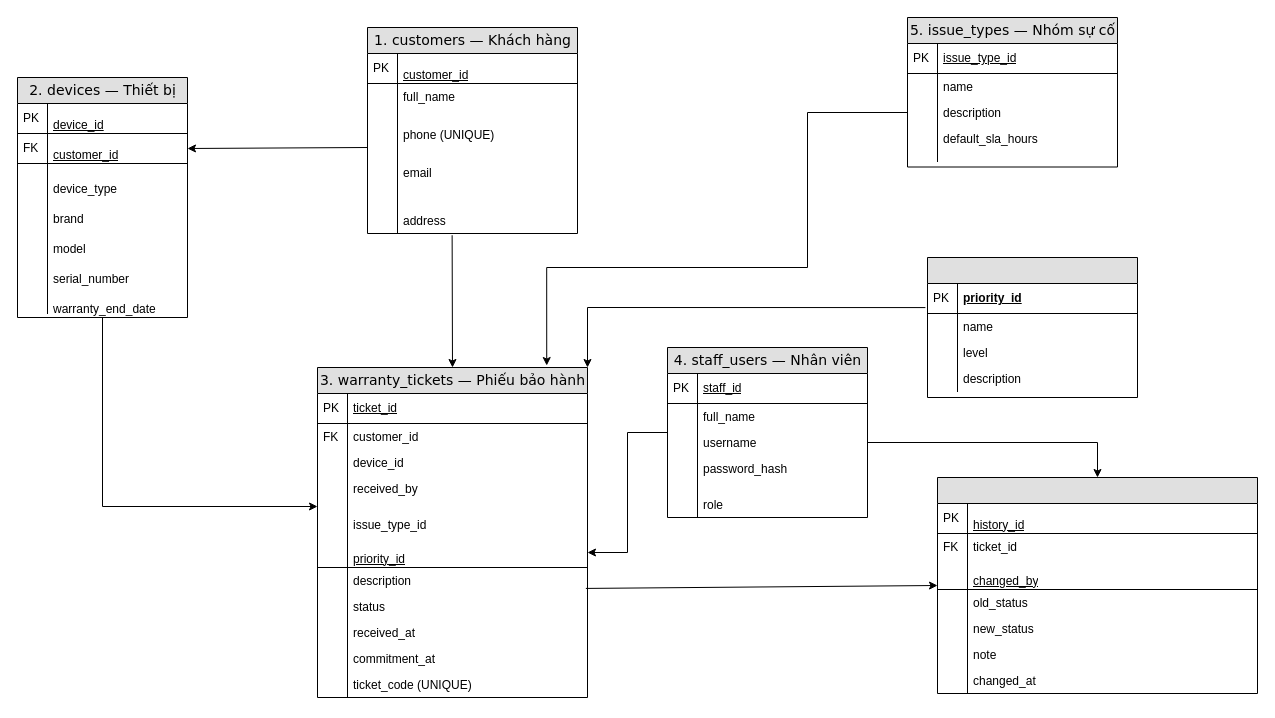
This 1275x718 diagram has some shape labels left out. Each missing label, with the box of its shape:
6. priorities — Mức ưu tiên: (926, 256, 1138, 398)
7. ticket_status_history — Lịch sử trạng thái: (936, 476, 1258, 694)
